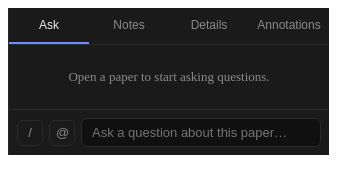
Test: RightPanel › switches to Details on click and shows its empty state
The image size is (346, 172).
Click the tab "Details": (209, 26) [169,8,249,44]
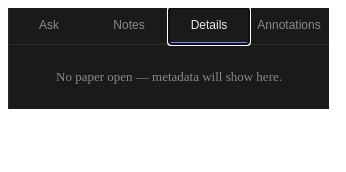
Expected: the text "No paper open — metadata will show here." is shown, [56,69,282,84]
